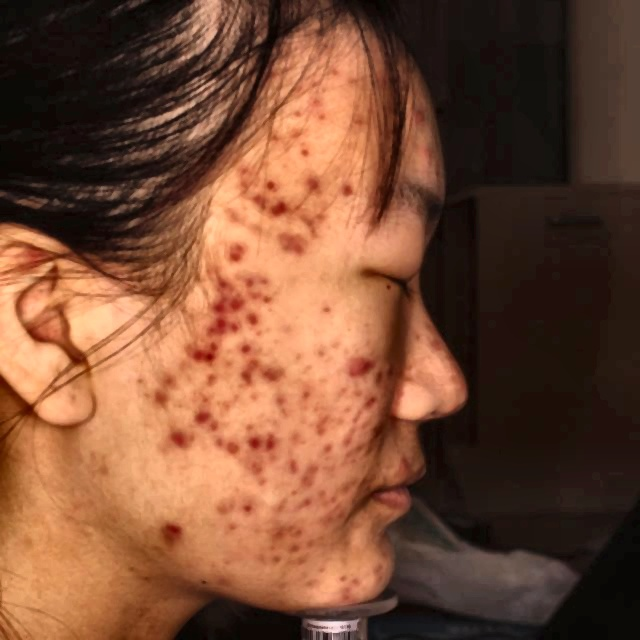nodule: (142, 420, 201, 459), (265, 227, 317, 262), (320, 172, 372, 206), (204, 498, 248, 538), (327, 568, 372, 607), (140, 362, 178, 408), (212, 425, 250, 471), (357, 553, 404, 590), (344, 385, 386, 424), (237, 413, 274, 455), (407, 147, 445, 185), (227, 280, 265, 318), (160, 514, 196, 554), (294, 85, 332, 122), (290, 164, 328, 200), (183, 403, 218, 442), (260, 520, 295, 559), (230, 352, 264, 392), (236, 180, 272, 217), (319, 484, 353, 523), (227, 154, 265, 187), (303, 431, 336, 469), (245, 274, 279, 308), (232, 295, 265, 330), (187, 340, 220, 374), (280, 458, 316, 488), (228, 238, 258, 271), (304, 408, 338, 437), (260, 190, 290, 221), (260, 354, 295, 380), (317, 54, 344, 86), (206, 319, 242, 343), (229, 333, 260, 360), (264, 494, 292, 522), (348, 349, 374, 377), (196, 370, 230, 391), (258, 176, 290, 198), (345, 439, 377, 461), (201, 296, 224, 326), (282, 137, 308, 163), (244, 455, 270, 480), (370, 363, 401, 382), (203, 272, 230, 293), (346, 107, 372, 128), (296, 381, 318, 405), (390, 454, 414, 476), (290, 493, 316, 513), (301, 572, 326, 592), (407, 105, 427, 128), (276, 102, 297, 122), (212, 572, 230, 592), (318, 303, 340, 319)
